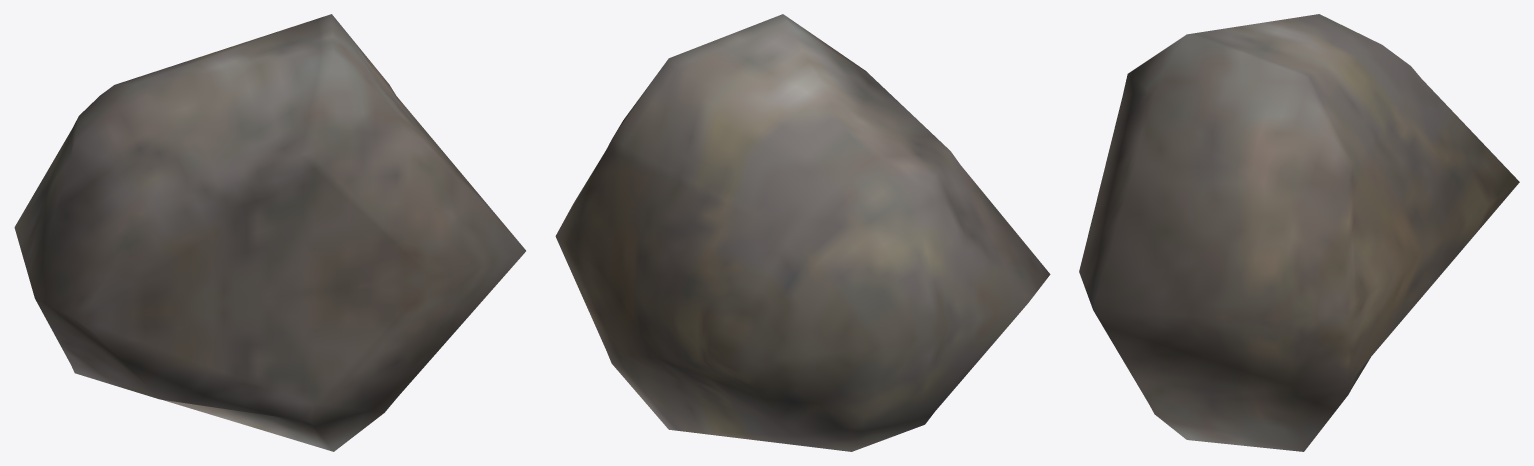
Rendered from detail_mesh_0.fbx.
3 renders of one model, left to right at view 1: azimuth 30°, elevation 25°; view 2: azimuth 150°, elevation 25°; view 3: azimuth 270°, elevation 25°, orthographic.
Parts seen in each view (by area): view 1: envPrfRock_detailstoneA_jungle_detail; view 2: envPrfRock_detailstoneA_jungle_detail; view 3: envPrfRock_detailstoneA_jungle_detail.
Part boxes in pixels (x1,y1,x2,y2): envPrfRock_detailstoneA_jungle_detail: [14, 14, 525, 451]; envPrfRock_detailstoneA_jungle_detail: [555, 14, 1050, 451]; envPrfRock_detailstoneA_jungle_detail: [1079, 14, 1519, 451].
Bounding box in the file's own units: 1.19 × 1.03 × 1.01.
